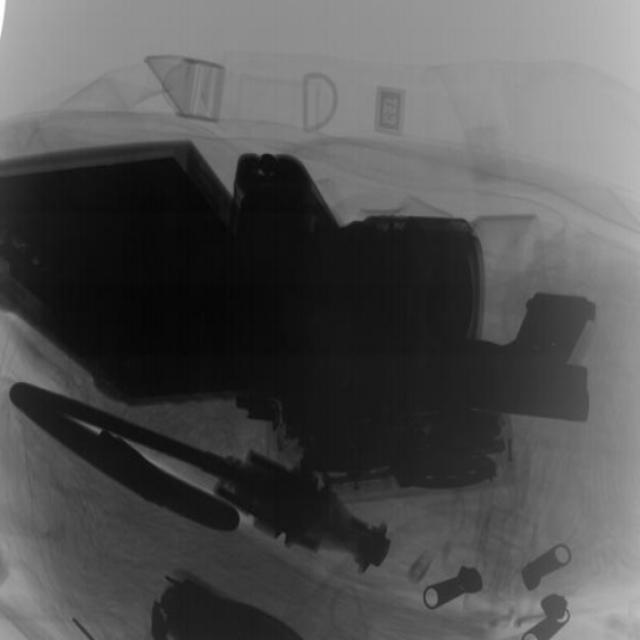GUN: (427, 286, 597, 437)
